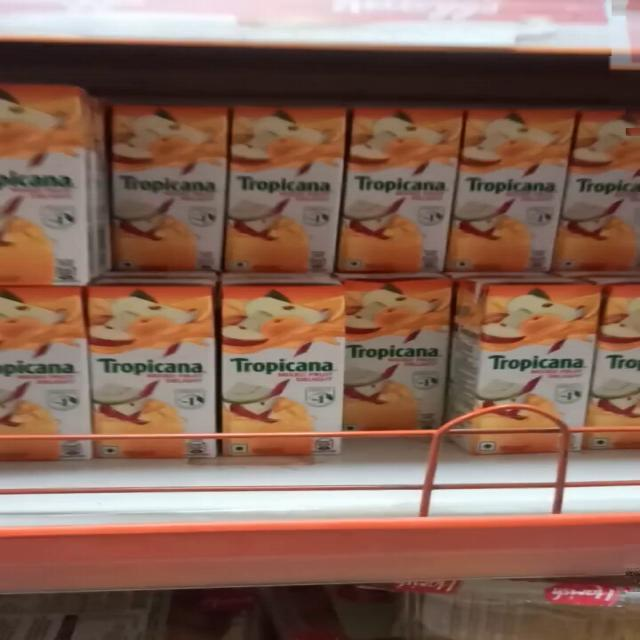Tropicana: (78, 278, 213, 462), (216, 96, 348, 270), (478, 276, 602, 456), (101, 92, 221, 270), (220, 279, 338, 457), (343, 96, 461, 272), (342, 276, 466, 434), (463, 96, 572, 266)
